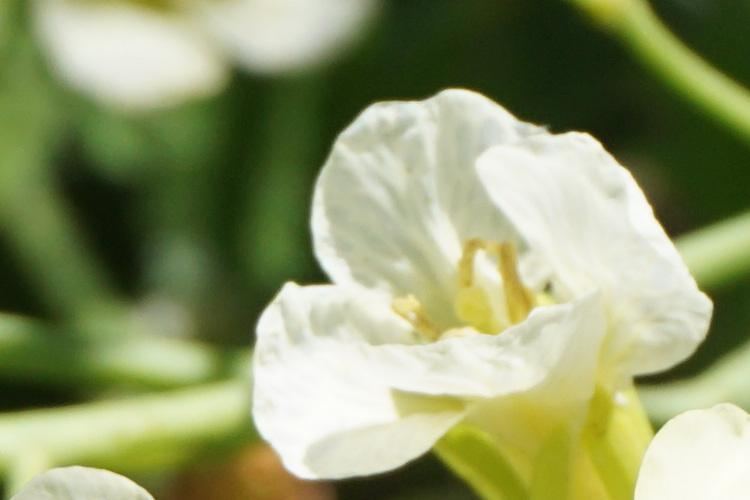white: (273, 102, 707, 469)
